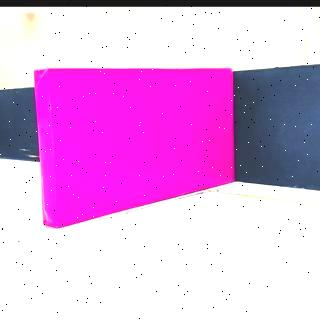xparking: (35, 72, 232, 202)
